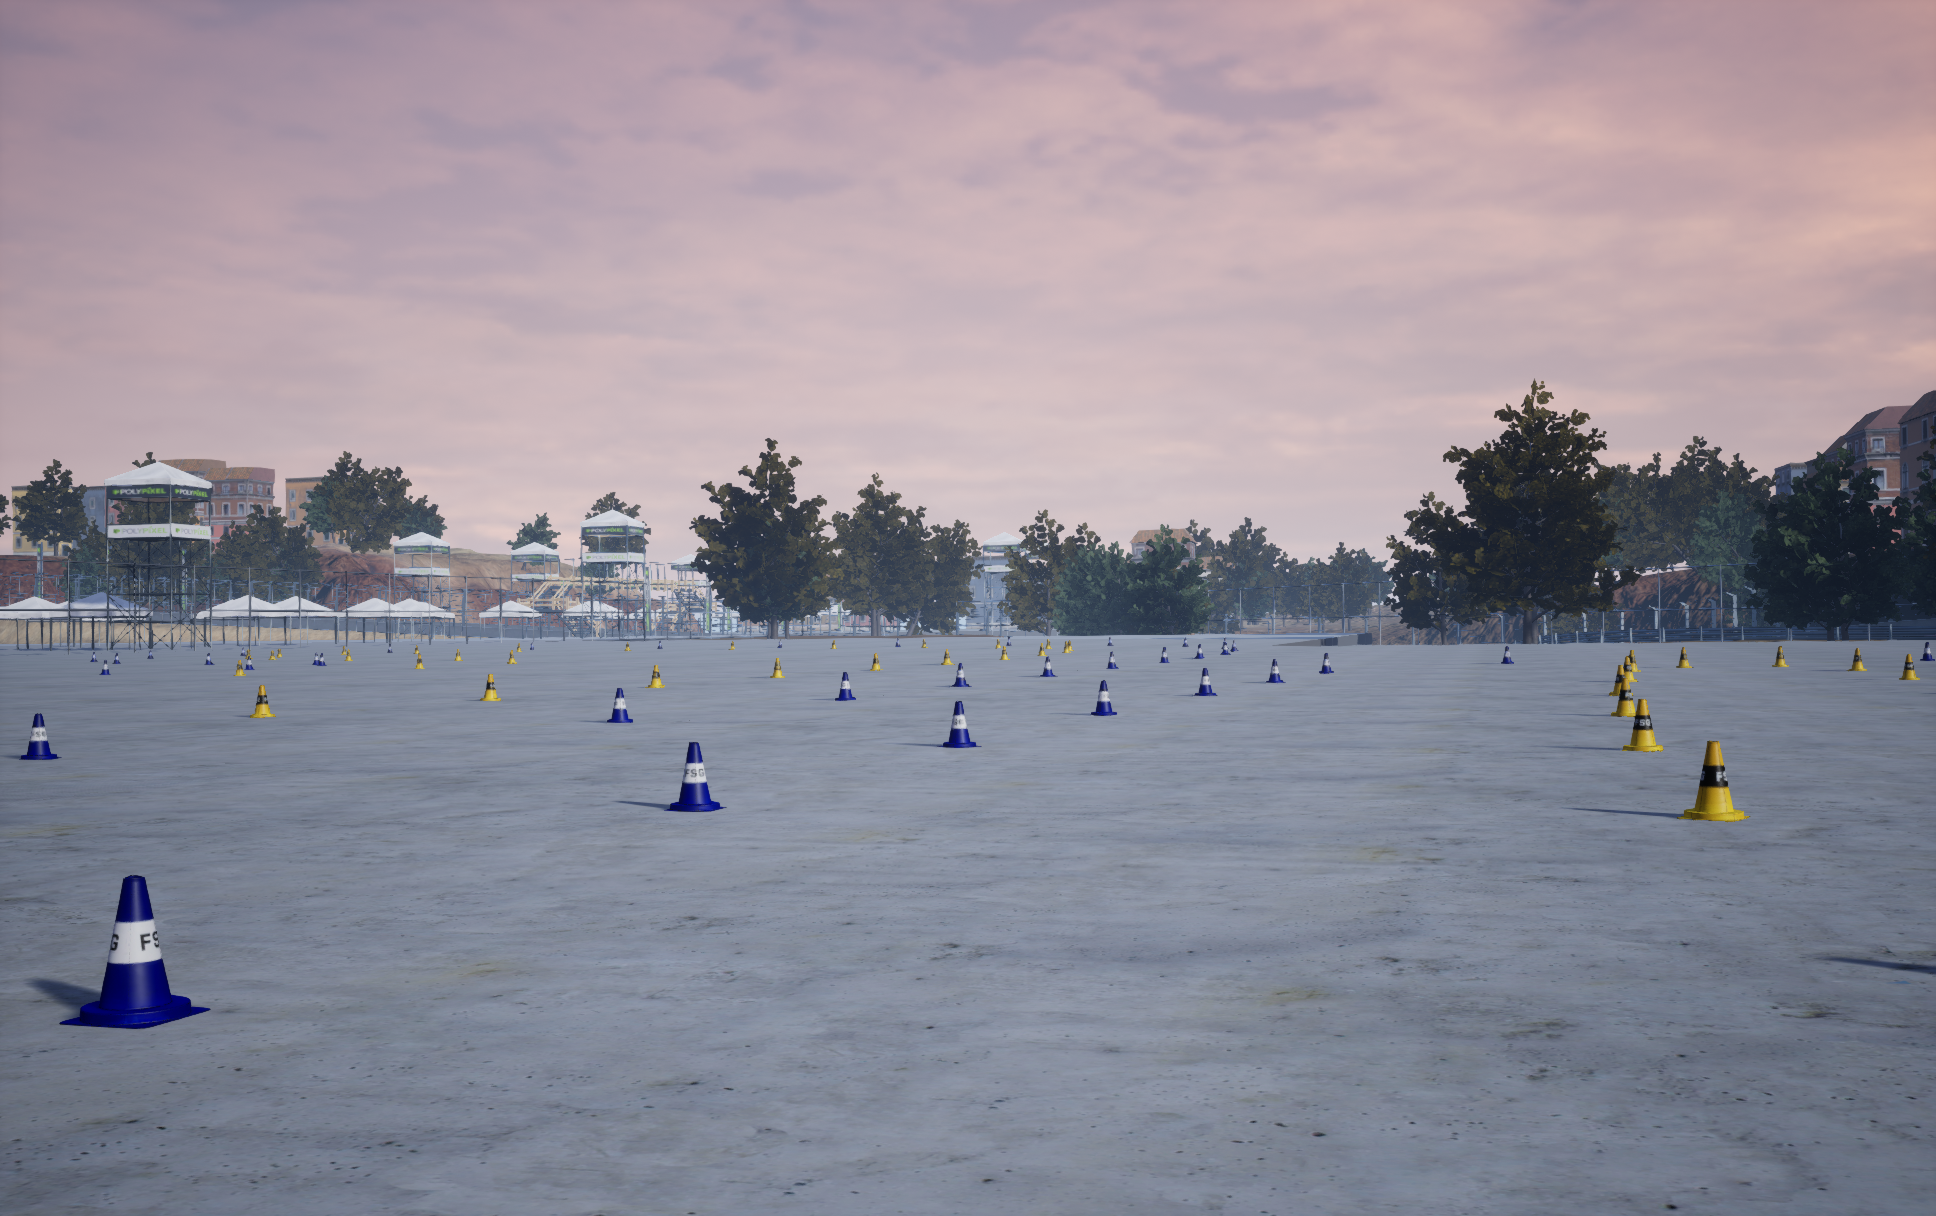blue: (1677, 741, 1750, 821), (1622, 699, 1663, 751), (1611, 678, 1635, 716), (249, 685, 275, 717), (1610, 665, 1633, 695), (480, 674, 502, 700), (1900, 654, 1919, 679), (1846, 649, 1866, 670), (644, 665, 664, 686), (1675, 647, 1694, 667), (1624, 656, 1638, 681), (1772, 646, 1788, 665), (770, 658, 784, 677), (1629, 650, 1640, 671)
yellow: (59, 876, 210, 1028), (664, 742, 726, 811), (937, 700, 981, 747), (20, 713, 62, 759), (1091, 679, 1116, 714), (607, 688, 632, 721), (1194, 668, 1217, 695), (835, 672, 855, 700), (950, 663, 971, 686), (1266, 658, 1285, 682), (1039, 656, 1058, 677), (1320, 653, 1334, 672), (1107, 651, 1118, 668)
